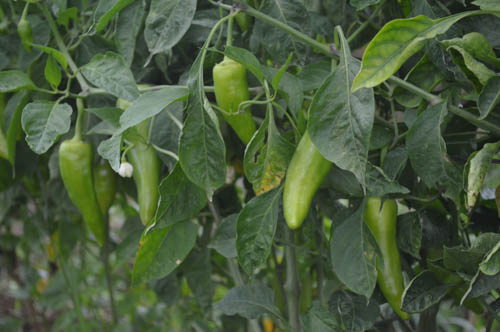ChiliPepper: (366, 195, 409, 314), (121, 89, 158, 224), (283, 130, 331, 230), (58, 141, 102, 246), (217, 59, 256, 143), (94, 165, 117, 213)
